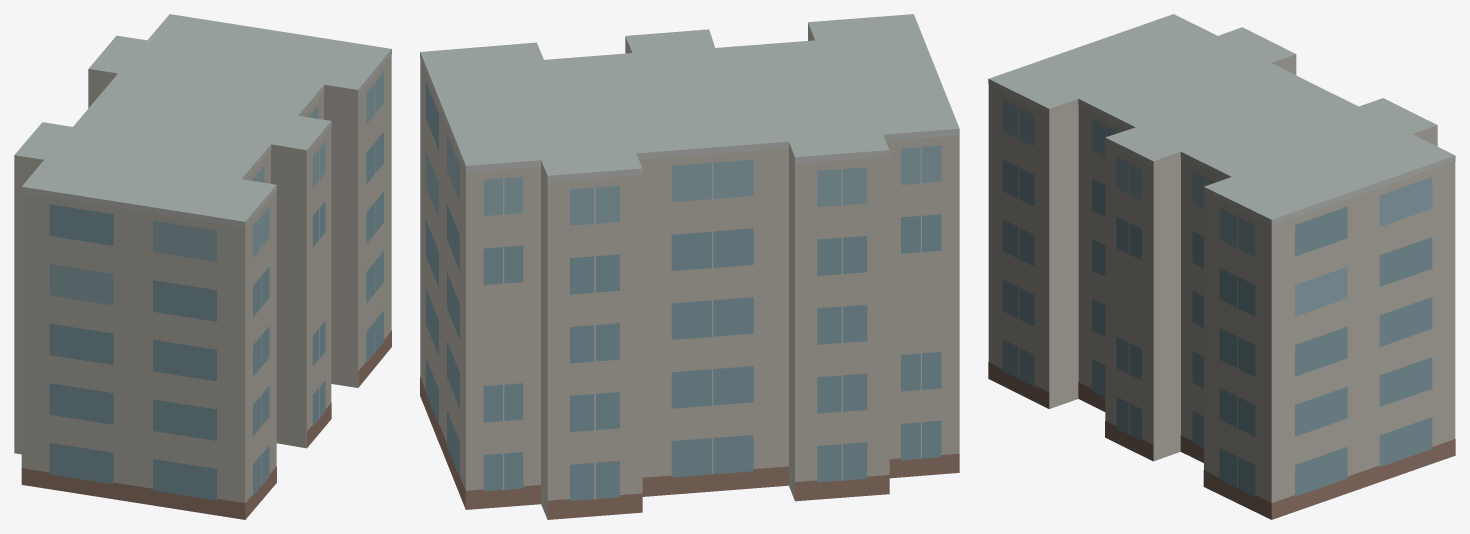
File: survey-upis-32826313.glb
3 renders of one model, left to right at view 1: azimuth 30°, elevation 25°; view 2: azimuth 150°, elevation 25°; view 3: azimuth 270°, elevation 25°, orthographic. The views are drawn at different scales.
Parts seen in each view (by area): view 1: survey-upis-32826313.tmp; view 2: survey-upis-32826313.tmp; view 3: survey-upis-32826313.tmp.
Boxes of the visible parts, box(x1,y1,x2,y2) form: survey-upis-32826313.tmp: box(14, 14, 391, 519); survey-upis-32826313.tmp: box(420, 14, 959, 519); survey-upis-32826313.tmp: box(988, 14, 1455, 519).
Bounding box in the file's own units: 18.68 × 12.7 × 17.91.
